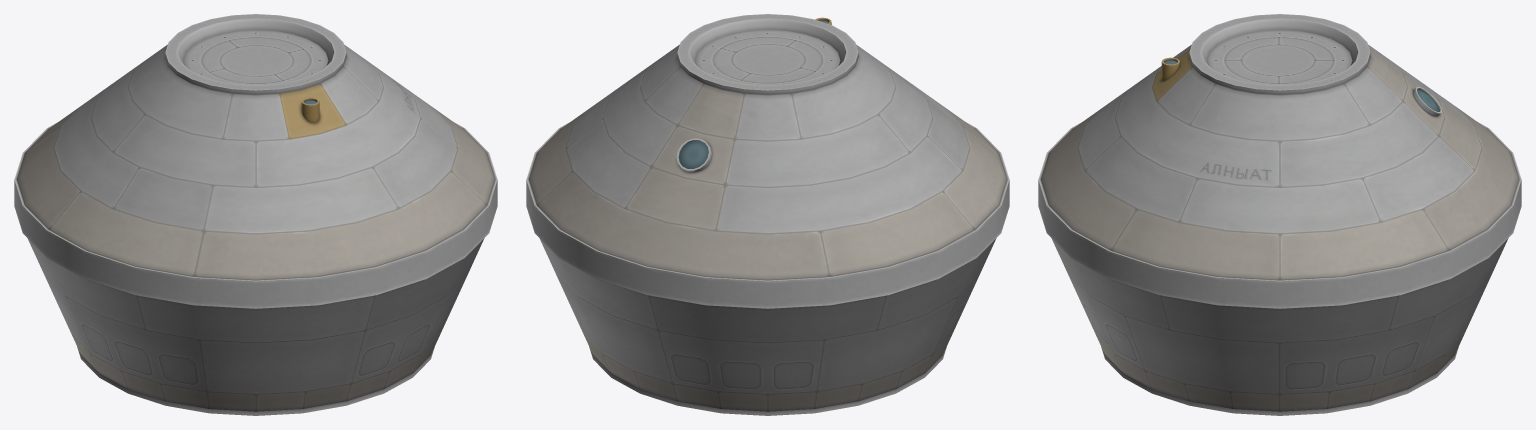
Rendered from Alniyat_Crew_1.obj.
3 renders of one model, left to right at view 1: azimuth 30°, elevation 25°; view 2: azimuth 150°, elevation 25°; view 3: azimuth 270°, elevation 25°, orthographic.
Visible parts, largest first — view 1: Alniyat_Crew_1; view 2: Alniyat_Crew_1, Alniyat_Crew_1_Windows; view 3: Alniyat_Crew_1.
Part boxes in pixels (x1,y1,x2,y2): Alniyat_Crew_1: [14, 14, 497, 415]; Alniyat_Crew_1: [526, 14, 1009, 415]; Alniyat_Crew_1_Windows: [679, 20, 829, 168]; Alniyat_Crew_1: [1038, 14, 1521, 415].
Bounding box in the file's own units: 2.5 × 1.64 × 2.5.
